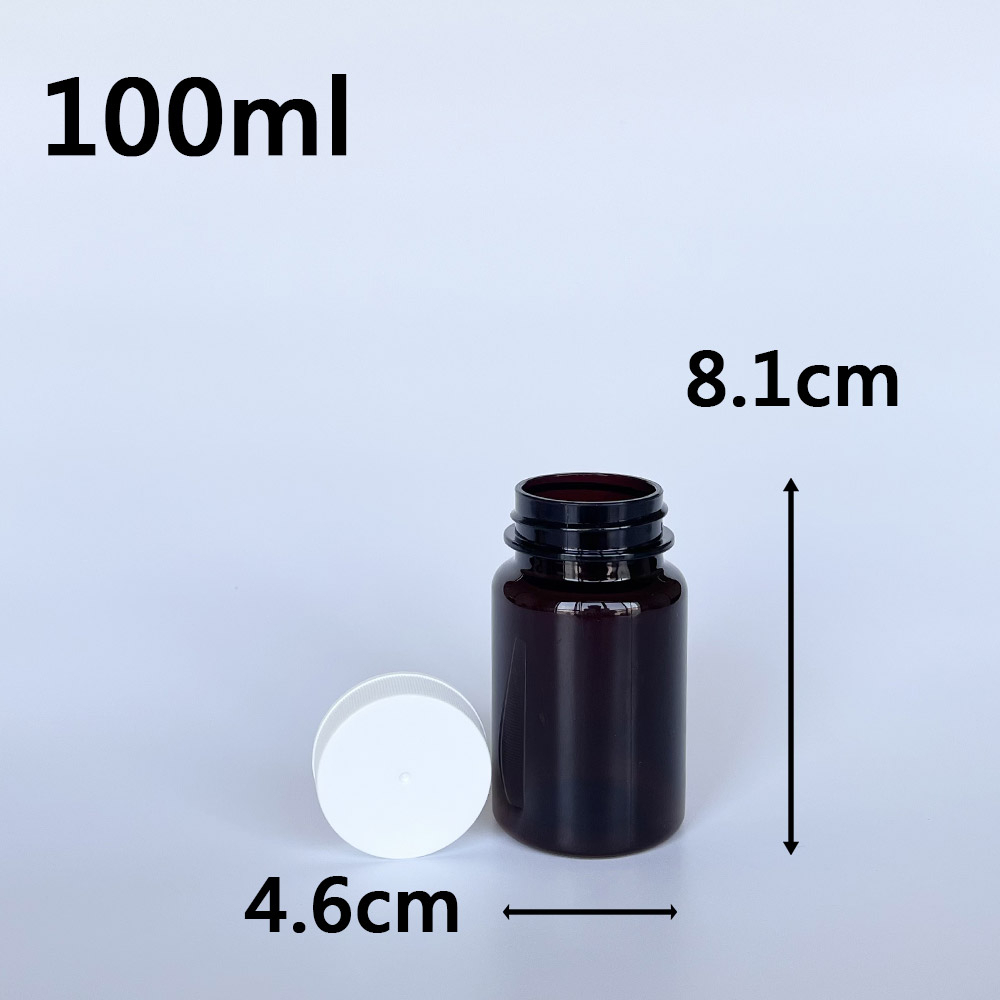medicinejar: (321, 472, 699, 863)
